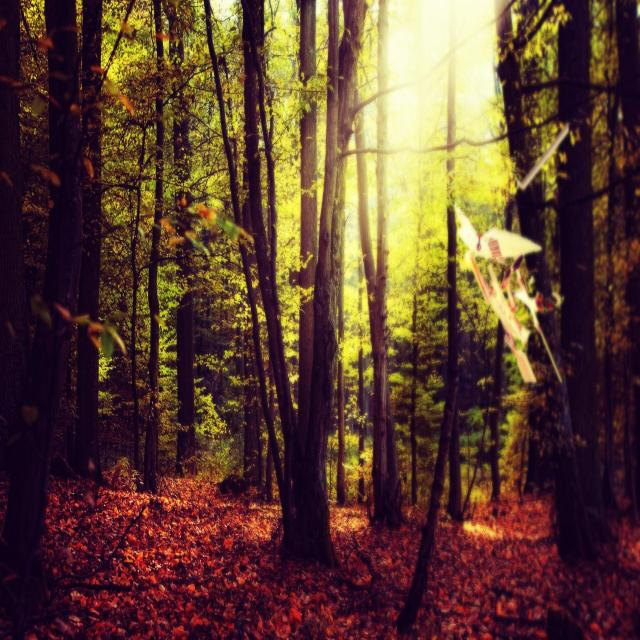airplane: (453, 203, 564, 385)
